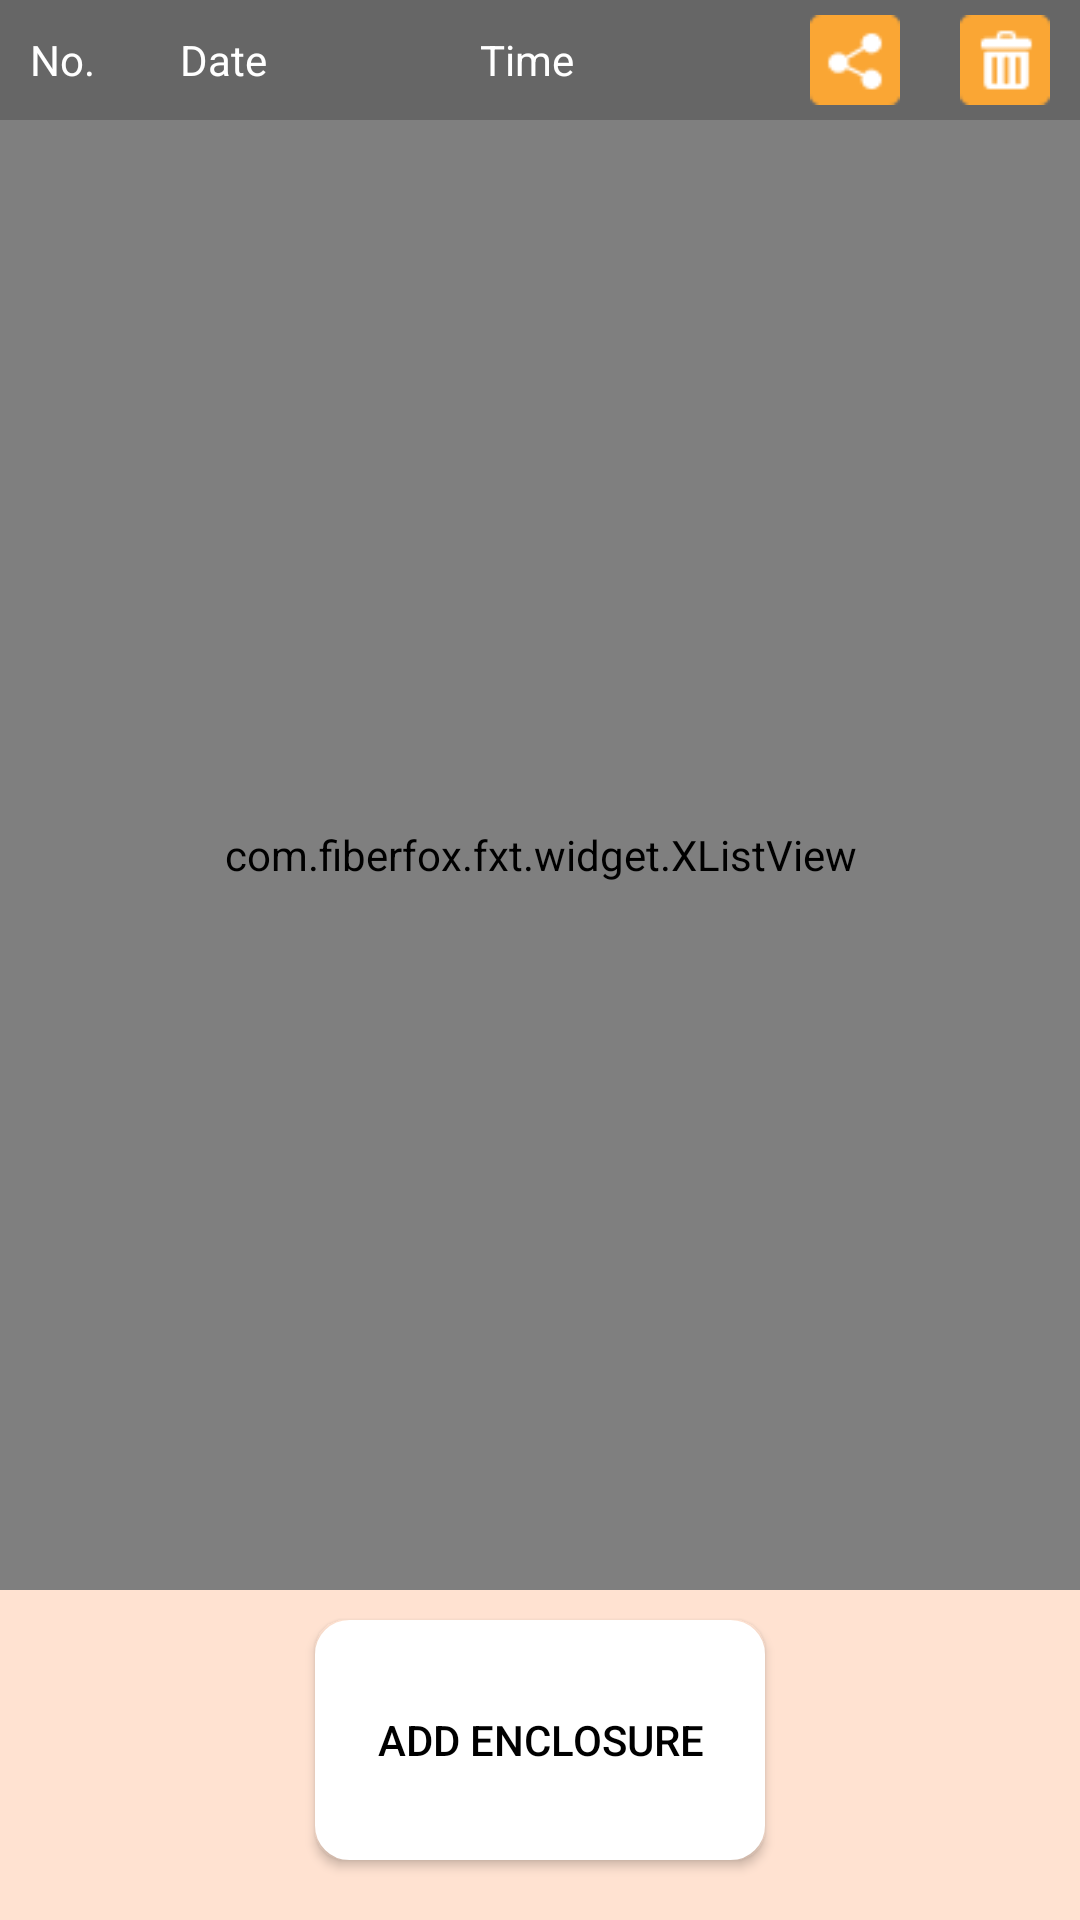

Where icons sit on this 1080x1920 app screen, as (x1, y1, x2, y2):
share: (810, 15, 900, 105)
trash: (960, 15, 1050, 105)
